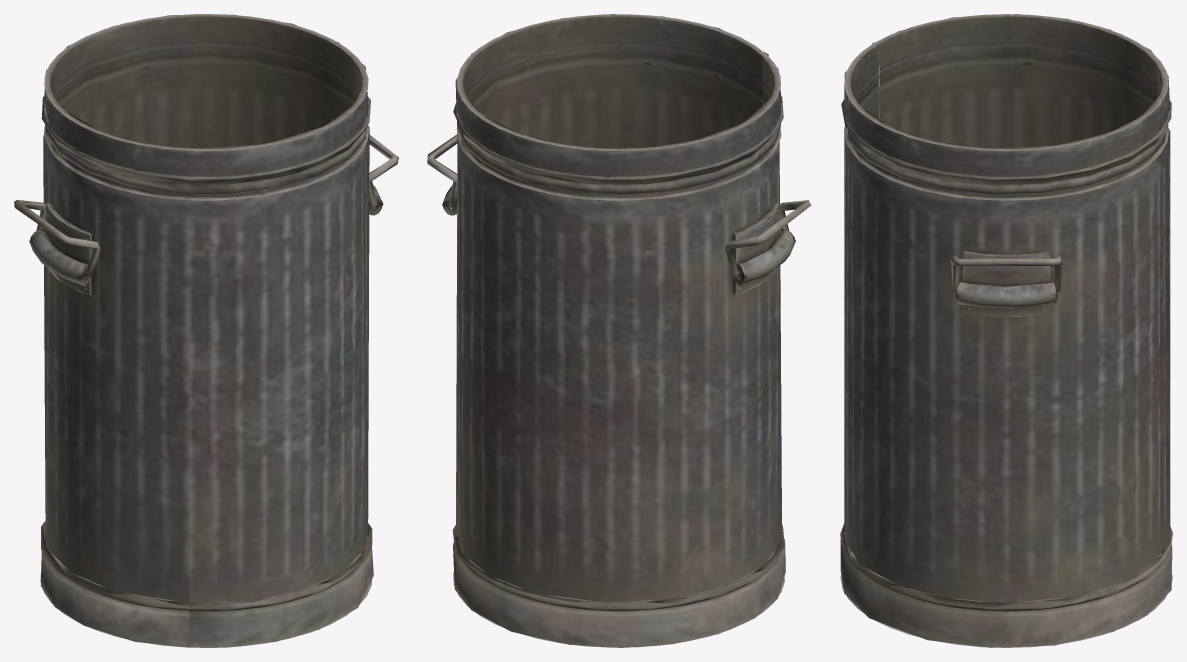
Rendered from ph_trash_can.glb.
3 views of the same model, side by side, from view 1: azimuth 30°, elevation 25°; view 2: azimuth 150°, elevation 25°; view 3: azimuth 270°, elevation 25° (orthographic).
Visible parts, largest first — view 1: metal_trash_can_handle_left; view 2: metal_trash_can_handle_left; view 3: metal_trash_can_handle_left.
Part boxes in pixels (bbox=[...]): metal_trash_can_handle_left: bbox=[14, 14, 398, 647]; metal_trash_can_handle_left: bbox=[427, 14, 811, 647]; metal_trash_can_handle_left: bbox=[840, 14, 1172, 647].
Size of the model in its own units: 0.6518 by 0.9062 by 0.5522.
Materials: 1 (1 with a texture image).
